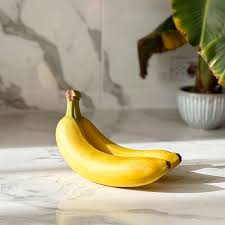banana: (53, 88, 183, 189)
